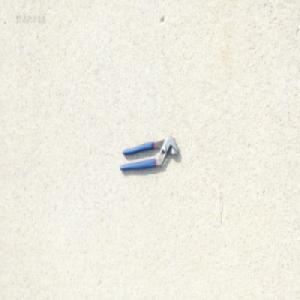Pliers: (118, 134, 179, 172)
